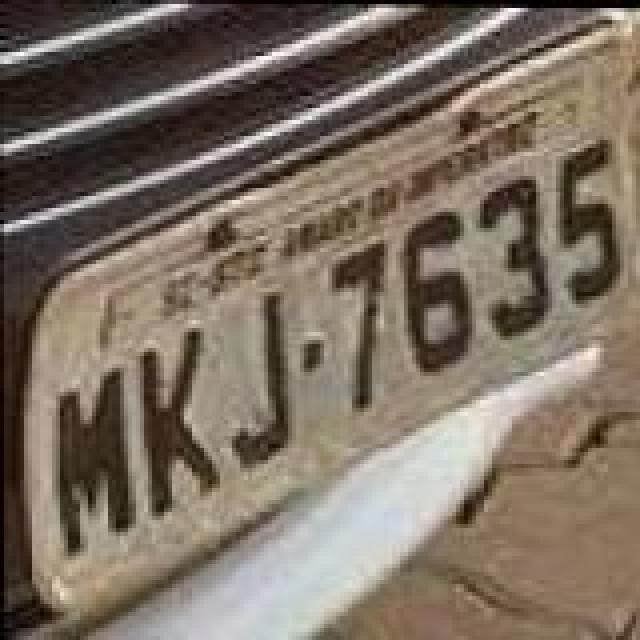3: (476, 172, 552, 336)
5: (562, 138, 626, 306)
6: (404, 210, 480, 378)
7: (334, 232, 390, 416)
J: (226, 288, 290, 468)
K: (132, 320, 224, 516)
M: (56, 370, 140, 562)
